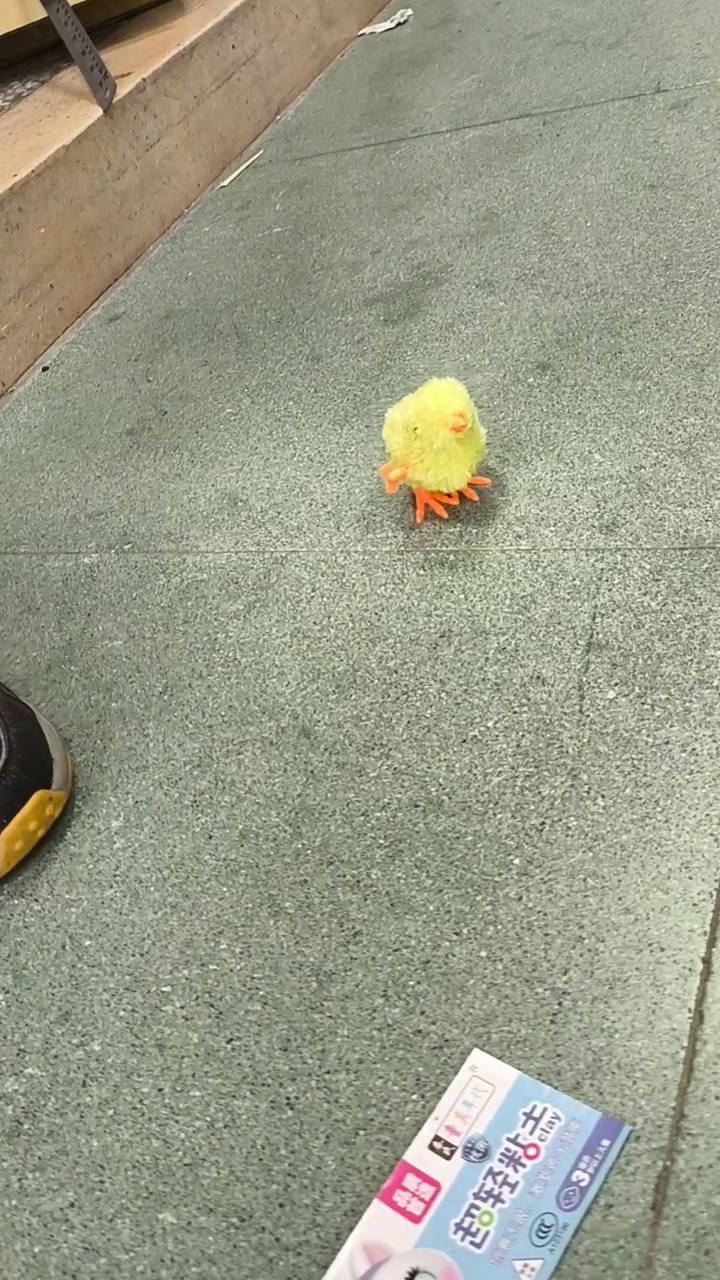yellow chicken: (372, 371, 498, 526)
